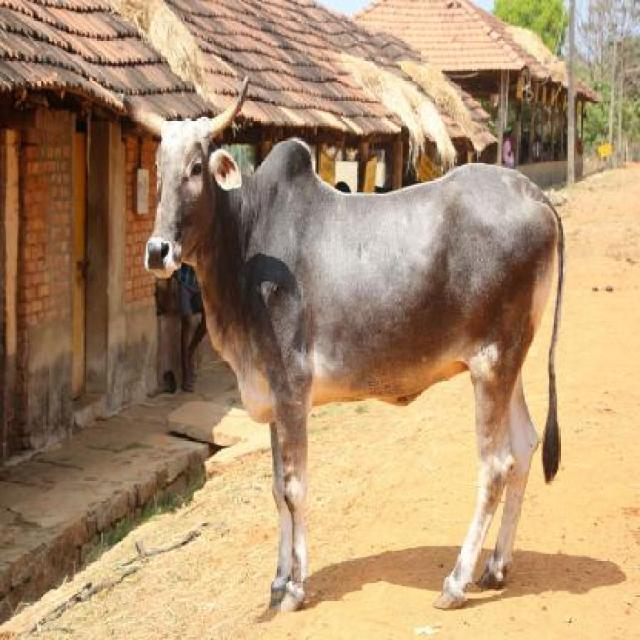Cow: (120, 75, 563, 611)
